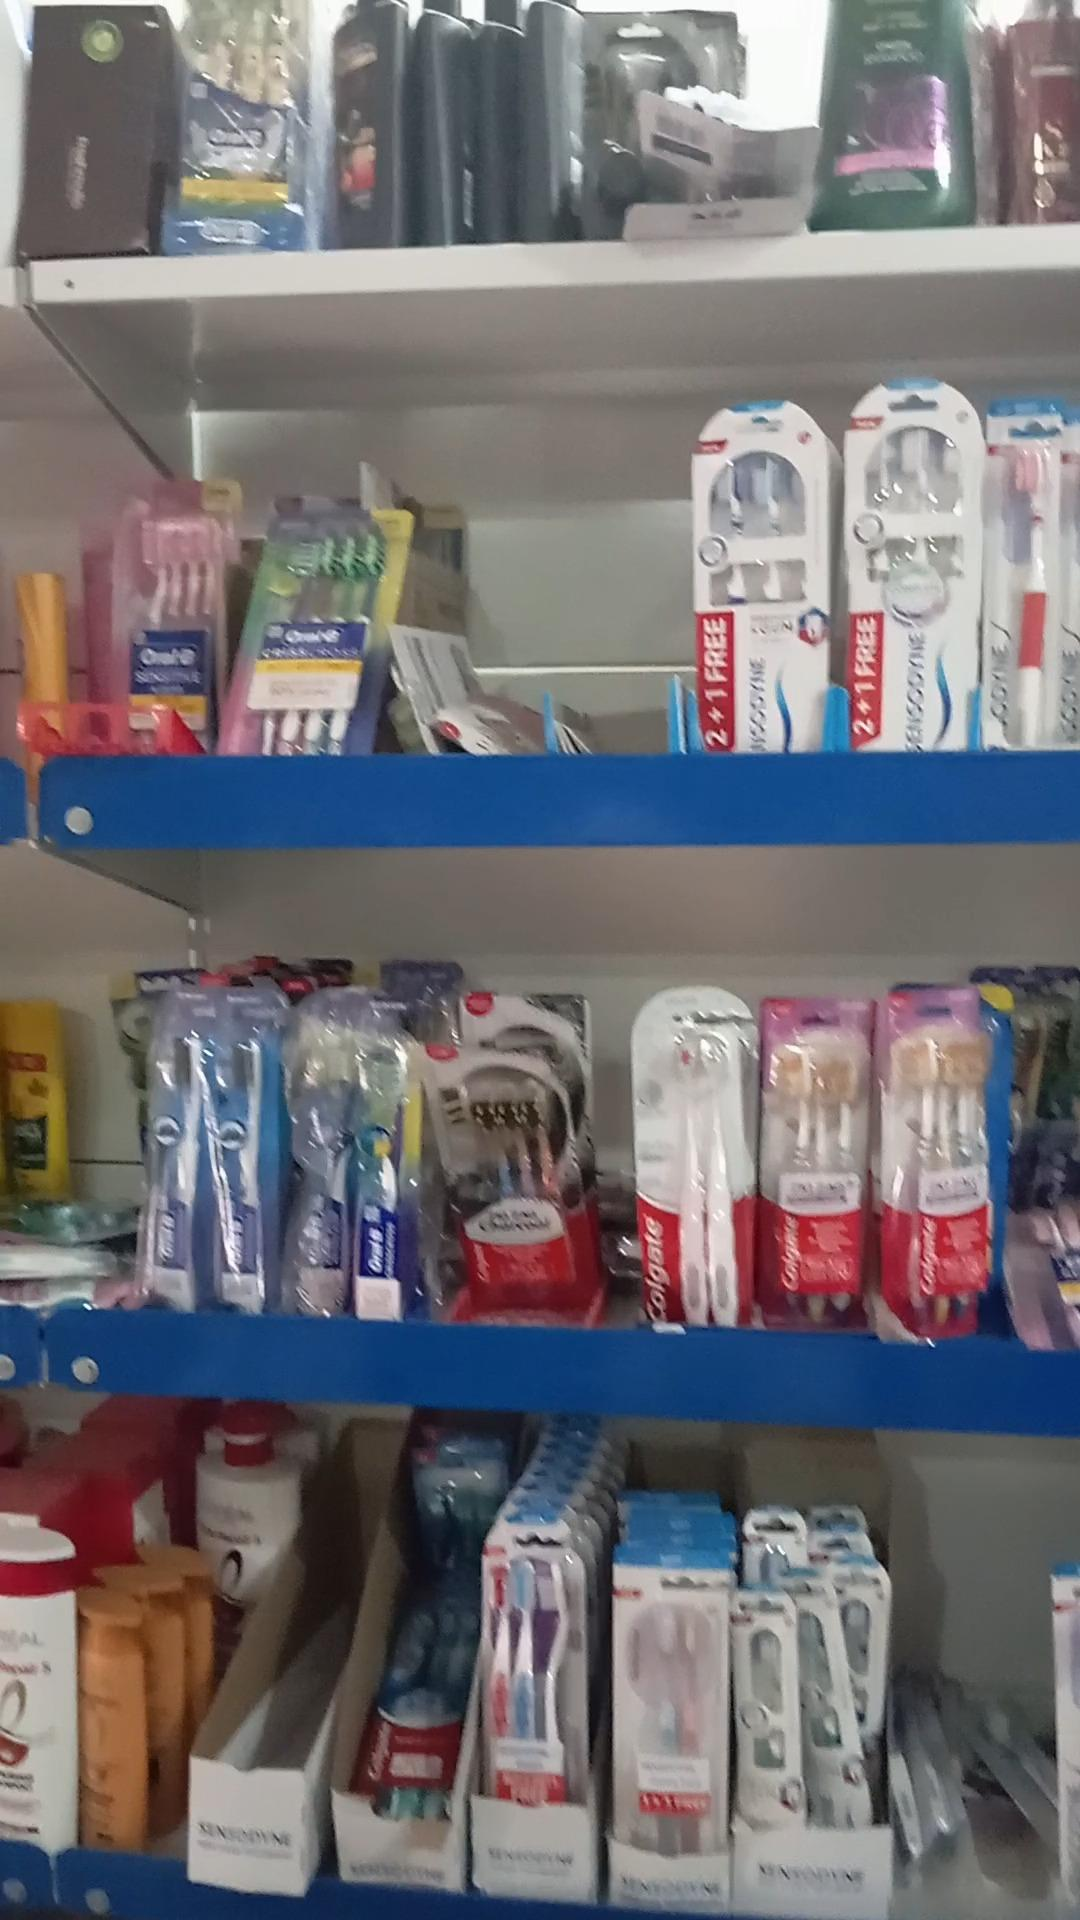10: (112, 476, 225, 760)
16: (687, 398, 825, 753)
4: (844, 376, 972, 754)
6: (485, 1530, 584, 1815)
7: (609, 1551, 729, 1854)
9: (355, 1030, 410, 1321)
liquid soap: (429, 1055, 568, 1313)
